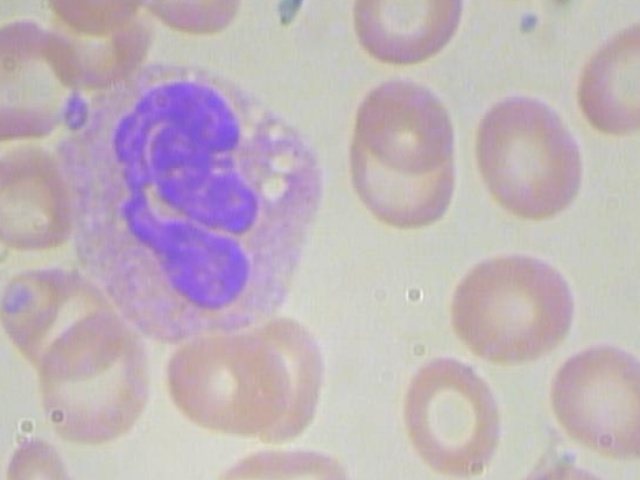RBC: (437, 233, 582, 368), (29, 315, 153, 452), (468, 83, 588, 223), (389, 347, 515, 480), (161, 324, 302, 438), (539, 339, 640, 461), (240, 313, 329, 450), (0, 7, 81, 150), (353, 67, 461, 170), (0, 138, 83, 255), (347, 0, 467, 80), (569, 11, 640, 144), (130, 0, 249, 41), (40, 0, 156, 40), (464, 0, 574, 3)
WBC: (53, 61, 340, 357)
